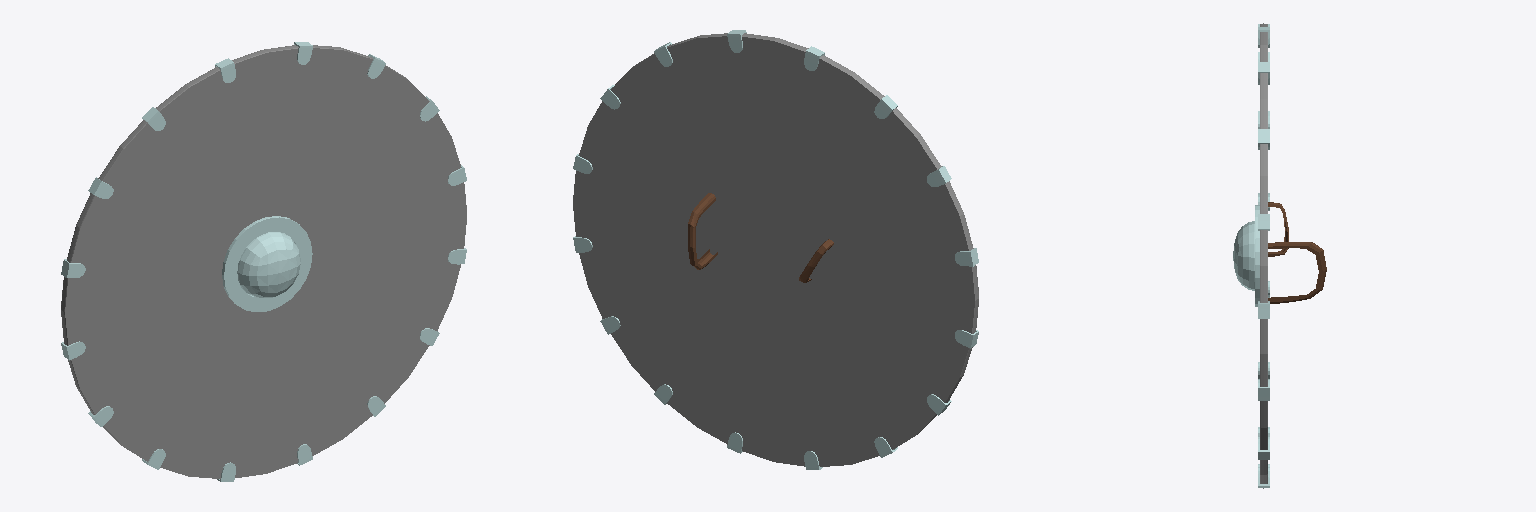
Rendered from Shield.obj.
The picture shows the model from 3 angles: view 1: azimuth 30°, elevation 25°; view 2: azimuth 150°, elevation 25°; view 3: azimuth 270°, elevation 25°; orthographic projection.
Parts seen in each view (by area): view 1: Shield; view 2: Shield; view 3: Shield.
Boxes of the visible parts, <box> form: Shield: <box>61,42,466,481</box>; Shield: <box>573,30,978,469</box>; Shield: <box>1233,23,1326,488</box>.
Size of the model in its own units: 885 by 885 by 179.